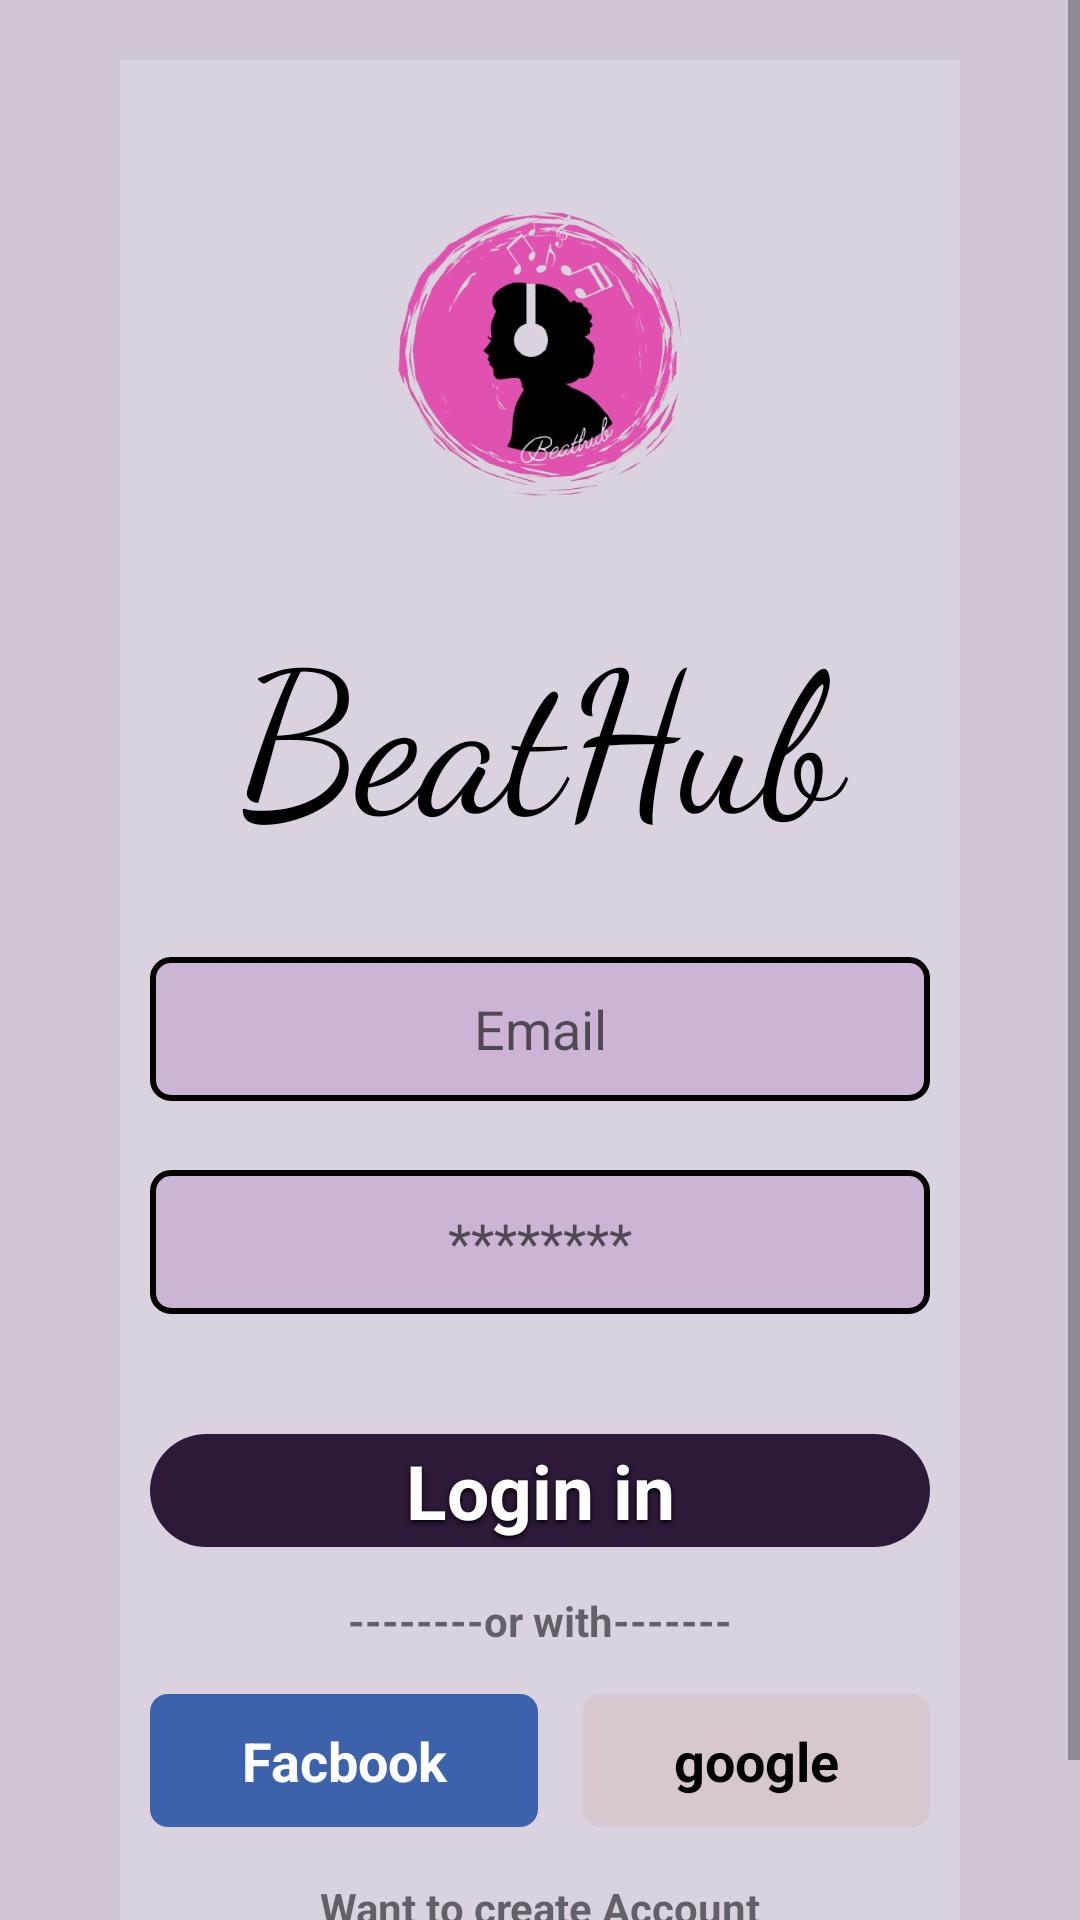

Icon click points for this 1080*1920 phone screenshot, format (x,y):
musicapk: (539,354)
